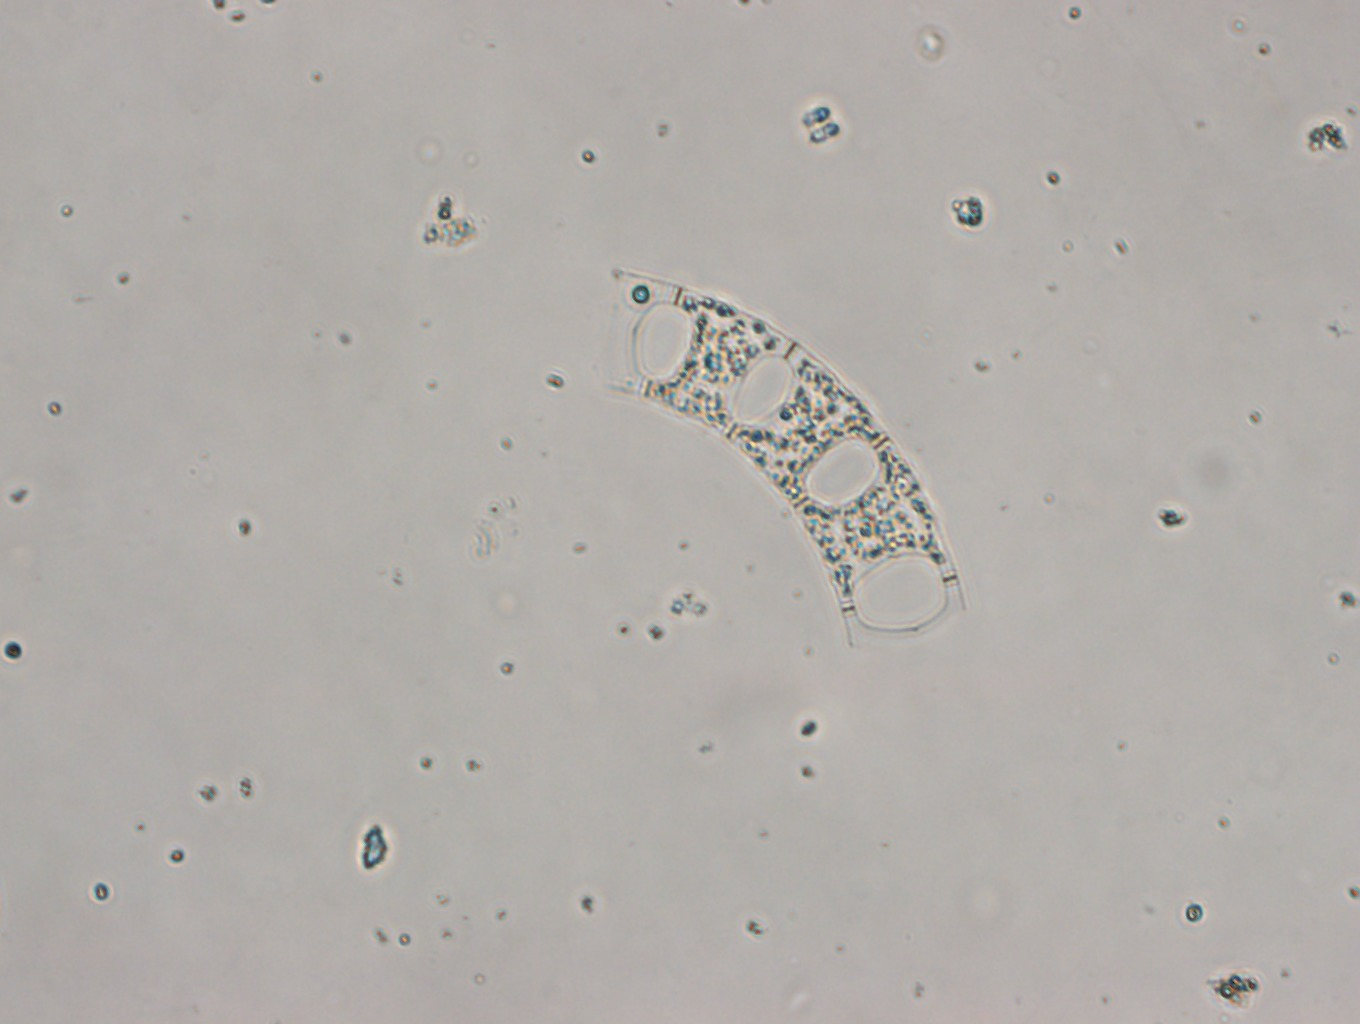eucampia: (592, 265, 971, 651)
